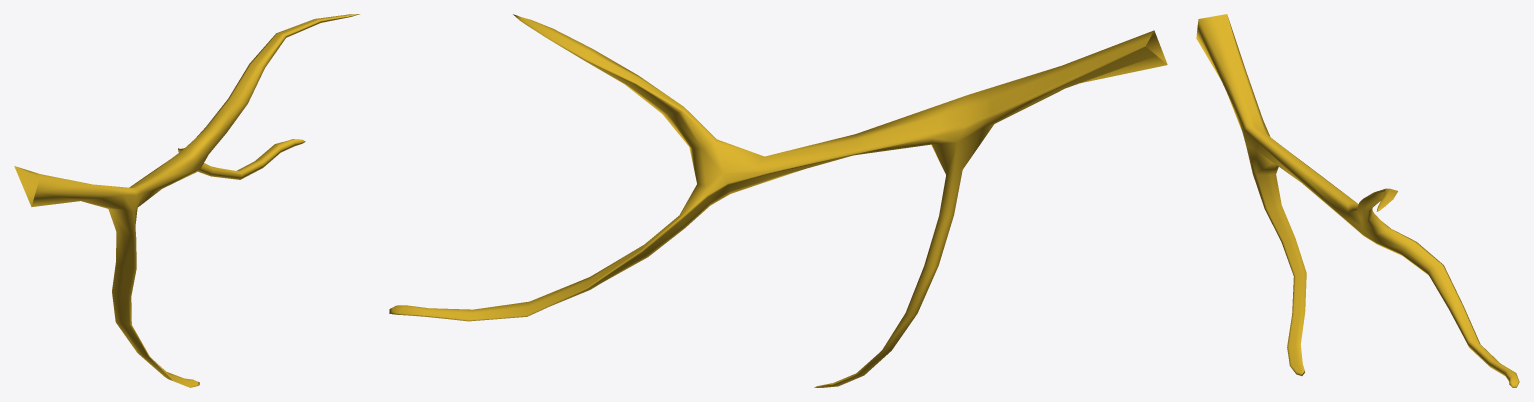
The model's file is tumbleweed_twig.fbx.
The picture shows the model from 3 angles, left to right: view 1: azimuth 30°, elevation 25°; view 2: azimuth 150°, elevation 25°; view 3: azimuth 270°, elevation 25°; orthographic projection. The views are drawn at different scales.
Parts seen in each view (by area): view 1: polySurface59; view 2: polySurface59; view 3: polySurface59.
Boxes of the visible parts, x1,y1,x2,y2 form: polySurface59: [14, 14, 359, 387]; polySurface59: [389, 14, 1167, 387]; polySurface59: [1196, 14, 1519, 387].
Size of the model in its own units: 379 by 242 by 267.
